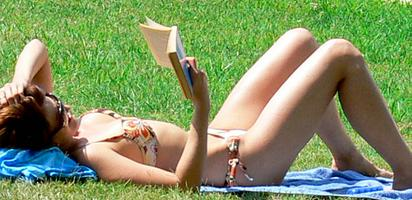person: (5, 28, 412, 193)
